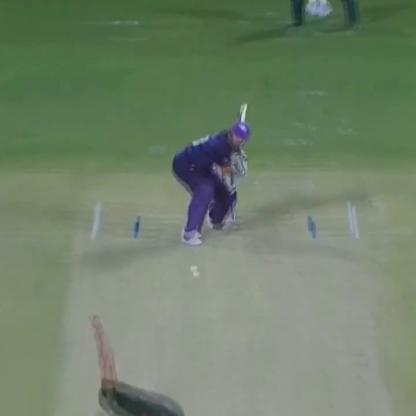ball: (191, 270, 202, 280), (184, 262, 199, 269)
pitch: (38, 199, 375, 416)
